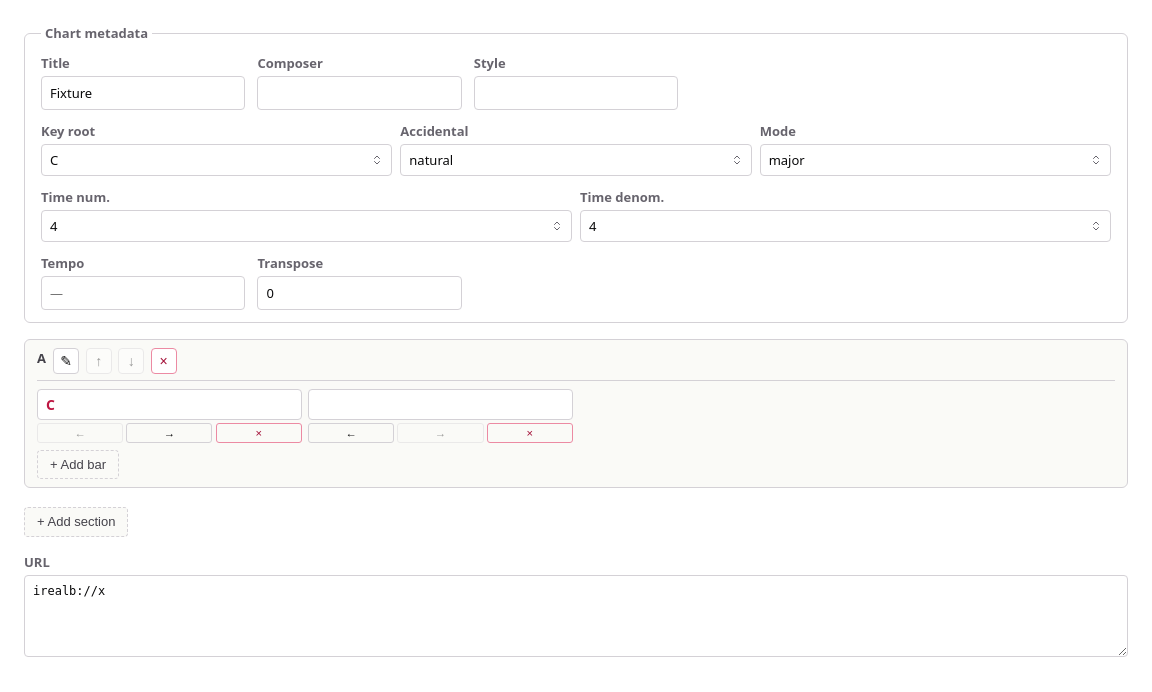
Scenario: <IrealBarGrid> popover — open / dismiss › Escape dismisses without committing
Click the button named "Edit bar 1".
click(50, 404)  # box [37,389,302,420]
(page scrolled)
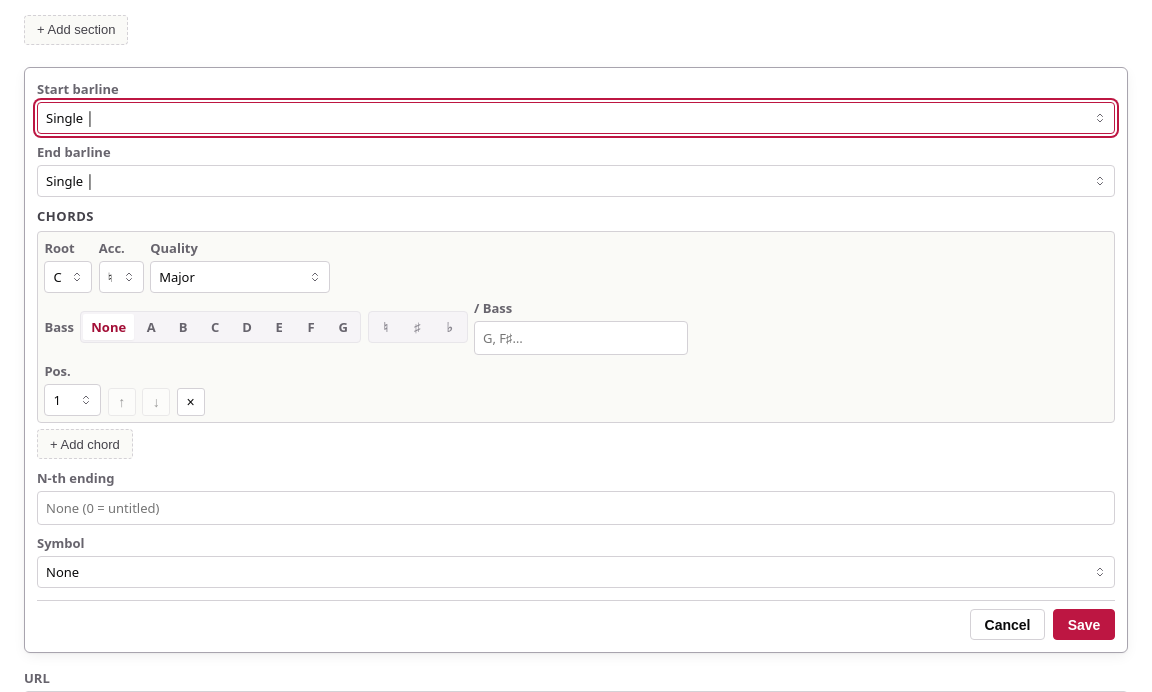
Press Escape in the dialog
(page scrolled)
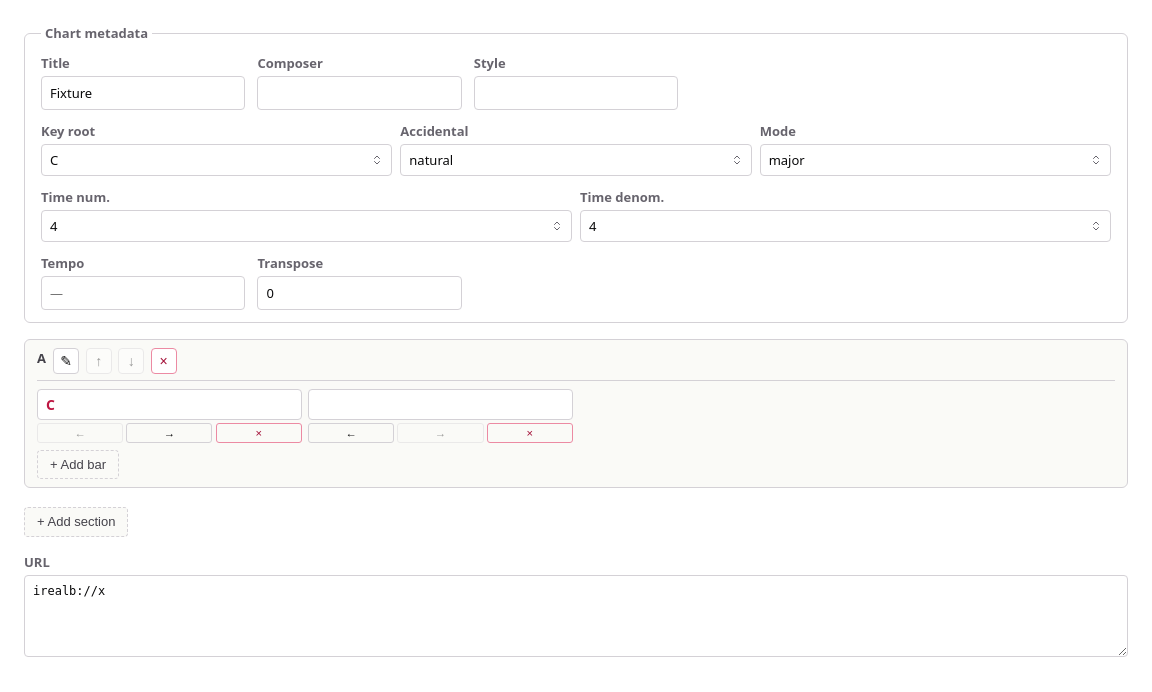
Check: the dialog is gone
